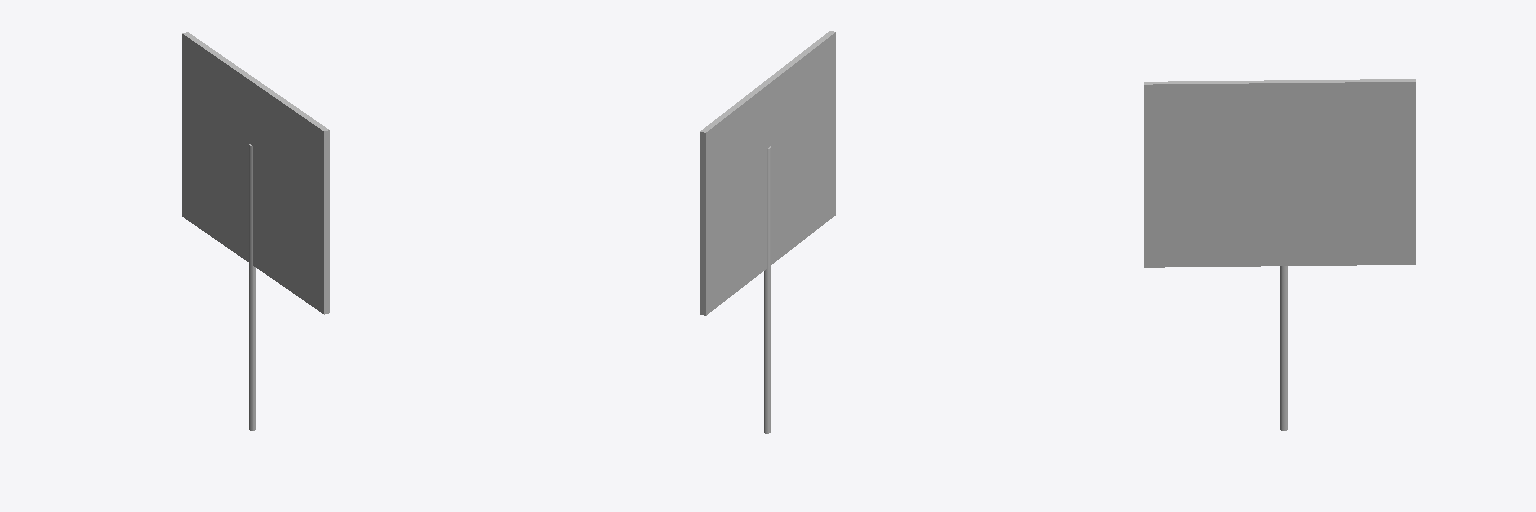
File: board_6.obj
3 views of the same model, side by side, from view 1: azimuth 30°, elevation 25°; view 2: azimuth 150°, elevation 25°; view 3: azimuth 270°, elevation 25° (orthographic).
Visible parts, largest first — view 1: Cube.020_Cube.021, Cylinder.020; view 2: Cube.020_Cube.021, Cylinder.020; view 3: Cube.020_Cube.021, Cylinder.020.
Part boxes in pixels (x1,y1,x2,y2): Cube.020_Cube.021: (182,32,329,314); Cylinder.020: (249,144,255,430); Cube.020_Cube.021: (700,31,835,315); Cylinder.020: (764,146,770,433); Cube.020_Cube.021: (1144,79,1415,267); Cylinder.020: (1280,266,1287,430).
Size of the model in its own units: 0.0108 by 0.3097 by 0.2191.